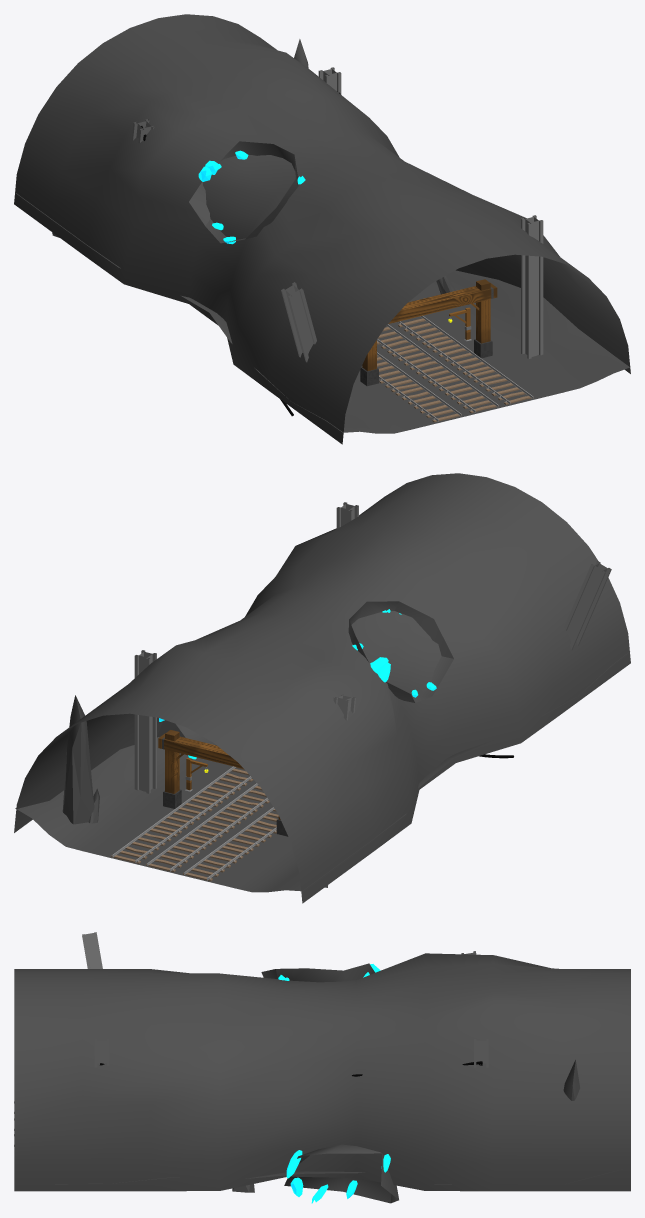
The model's file is Modulo V2 Obstaculos 3.fbx.
The picture shows the model from 3 angles, top to bottom: view 1: azimuth 30°, elevation 25°; view 2: azimuth 150°, elevation 25°; view 3: azimuth 270°, elevation 25°; orthographic projection. The views are drawn at different scales.
Parts seen in each view (by area): view 1: Cube.013; view 2: Cube.013; view 3: Cube.013.
Part boxes in pixels (left/top/right/bottom): Cube.013: left=14, top=14, right=630, bottom=444; Cube.013: left=14, top=473, right=630, bottom=903; Cube.013: left=14, top=932, right=630, bottom=1203.
Size of the model in its own units: 2672 by 1580 by 4762.
